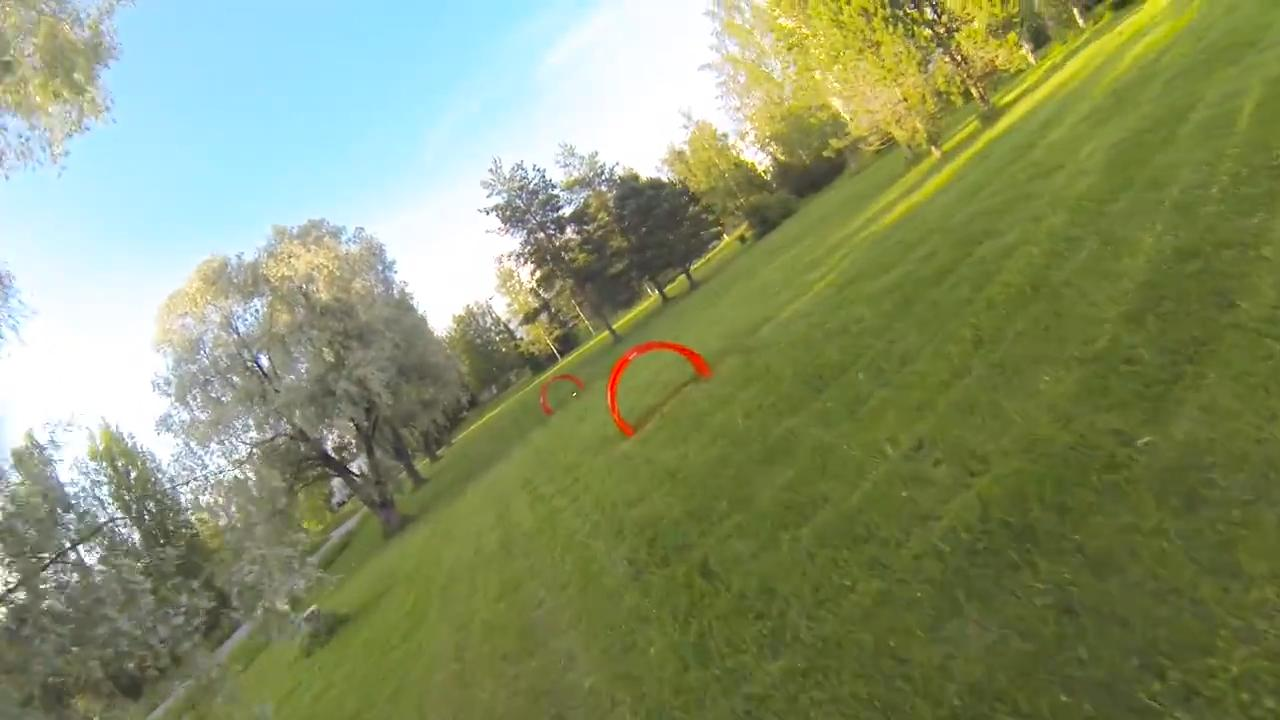gate: (603, 339, 710, 441)
